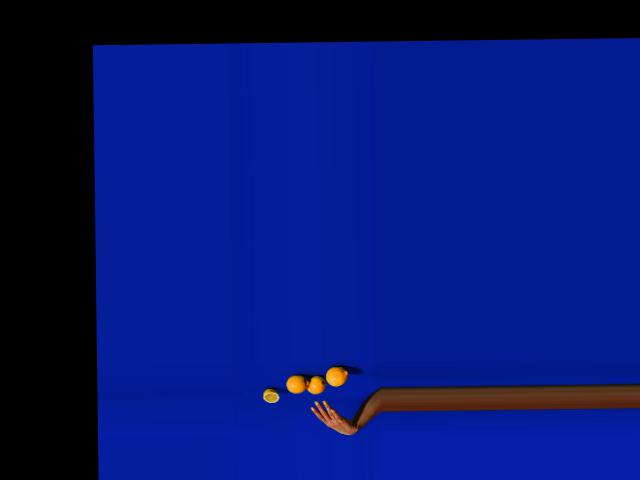lemon: (284, 376, 308, 393)
